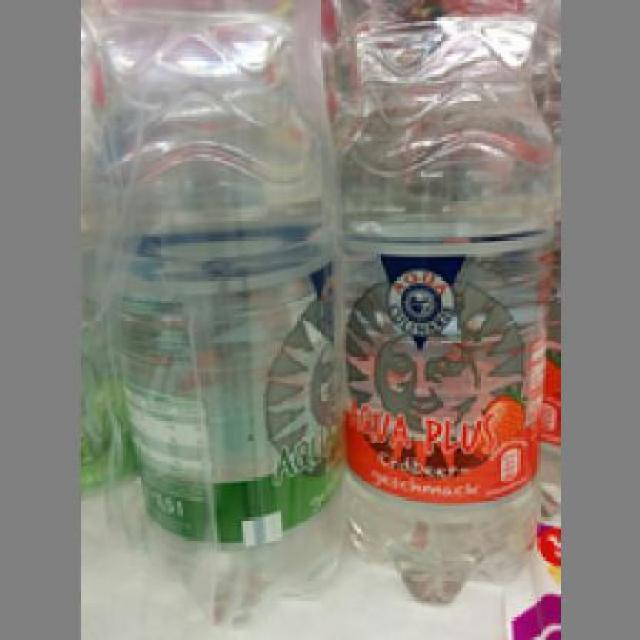Water: (91, 0, 340, 623), (317, 0, 557, 603)
